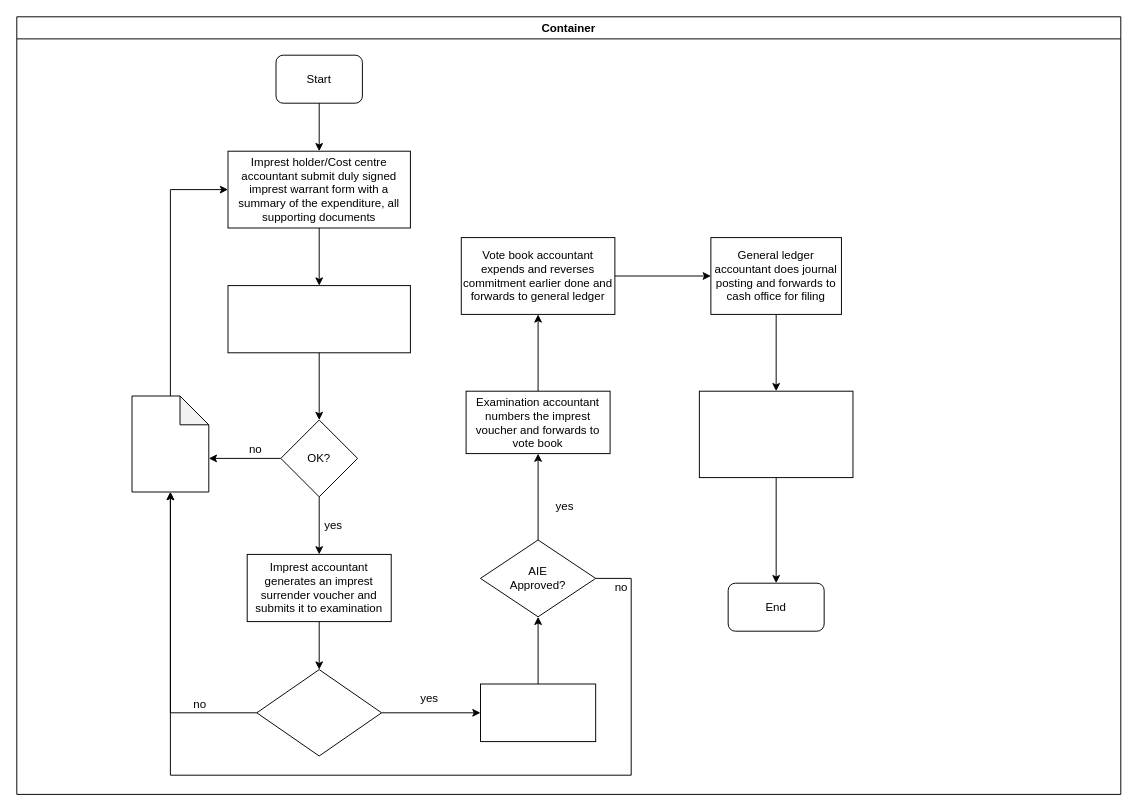
Some shapes in this 1138 by 811 pixel diagram are drawn without their labels. Each missing label, with the centre of its shape:
AIE Holder review: point 538,712
Examiner approved?: point 319,712
Filing is done by Accountant Cash office: point 775,434
Imprest accountant verifies the documents.: point 318,319
Return comments: point 170,443
